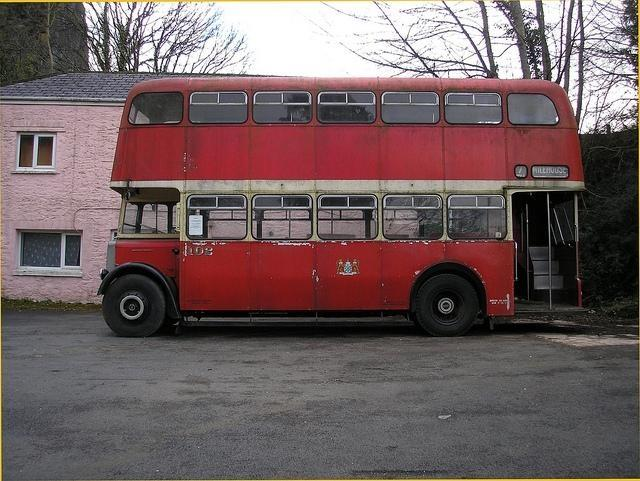bus: (96, 83, 584, 342)
